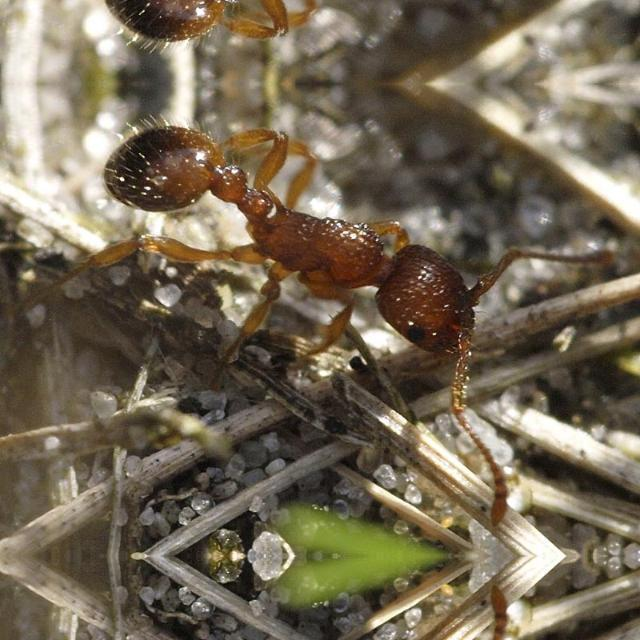Myrmica: (102, 90, 518, 400), (102, 0, 518, 78)
